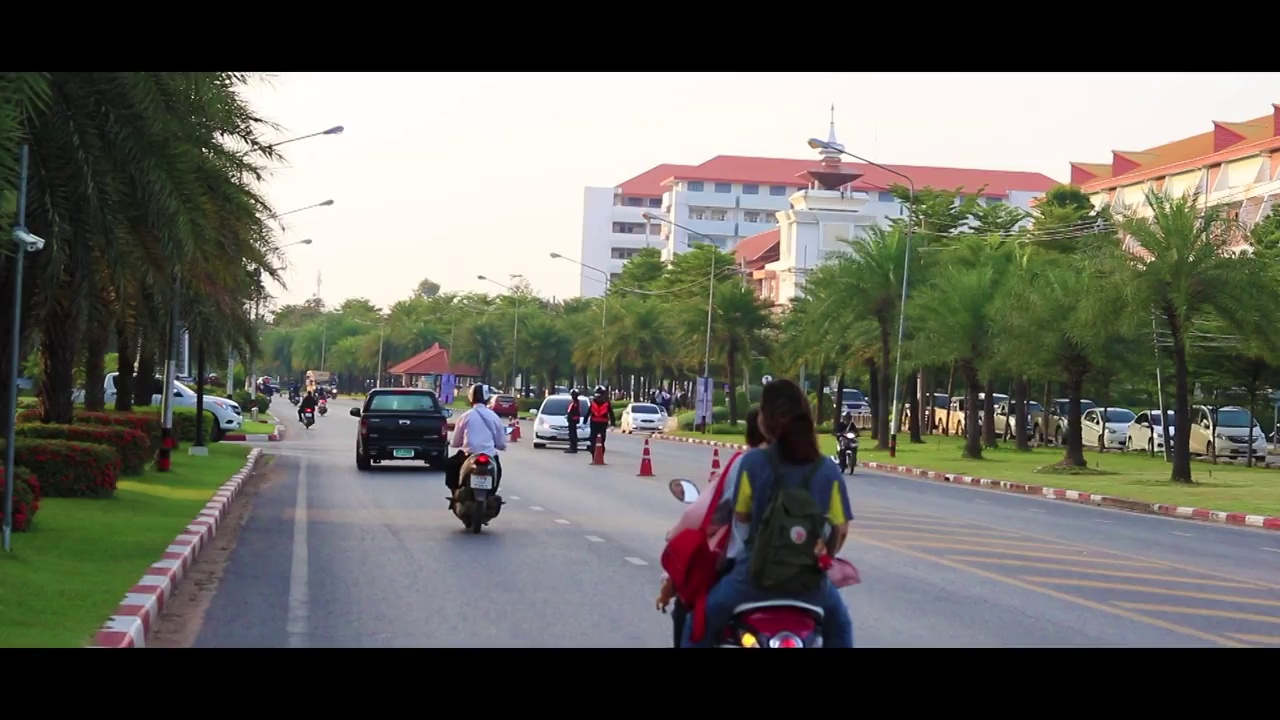helmet: (463, 374, 498, 404)
